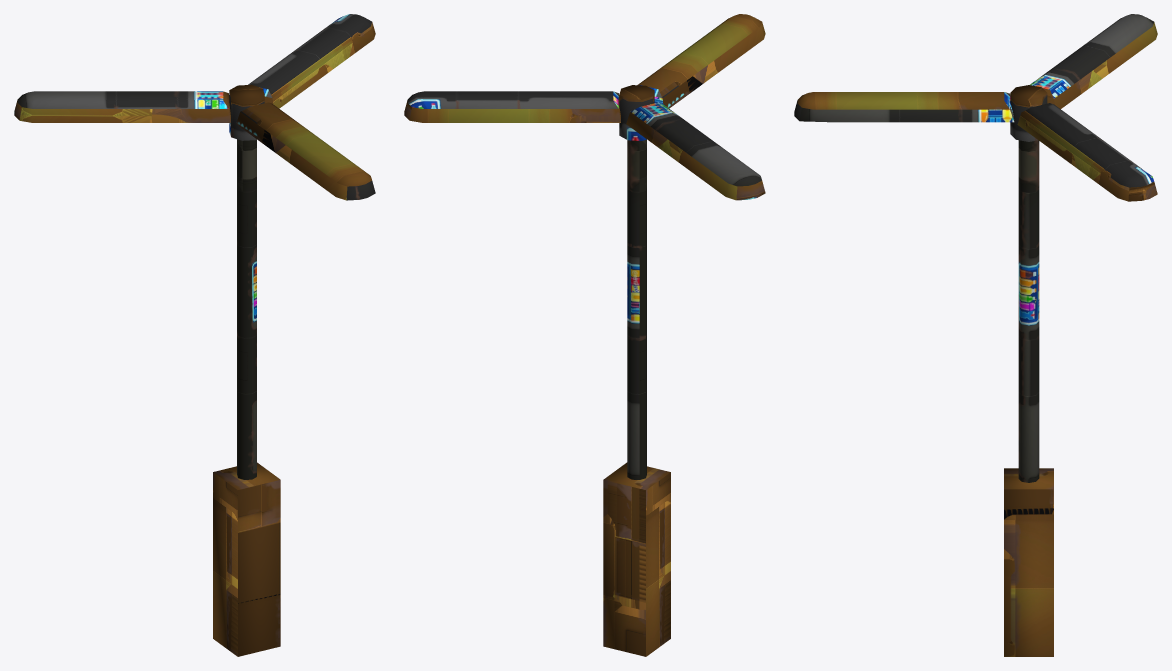
File: light.fbx
3 views of the same model, side by side, from view 1: azimuth 30°, elevation 25°; view 2: azimuth 150°, elevation 25°; view 3: azimuth 270°, elevation 25° (orthographic).
Parts seen in each view (by area): view 1: LIGHT; view 2: LIGHT; view 3: LIGHT.
Boxes of the visible parts, box(x1,y1,x2,y2) form: LIGHT: box(14, 14, 375, 656); LIGHT: box(404, 14, 765, 656); LIGHT: box(794, 14, 1157, 656).
Bounding box in the file's own units: 412 × 609 × 362.
